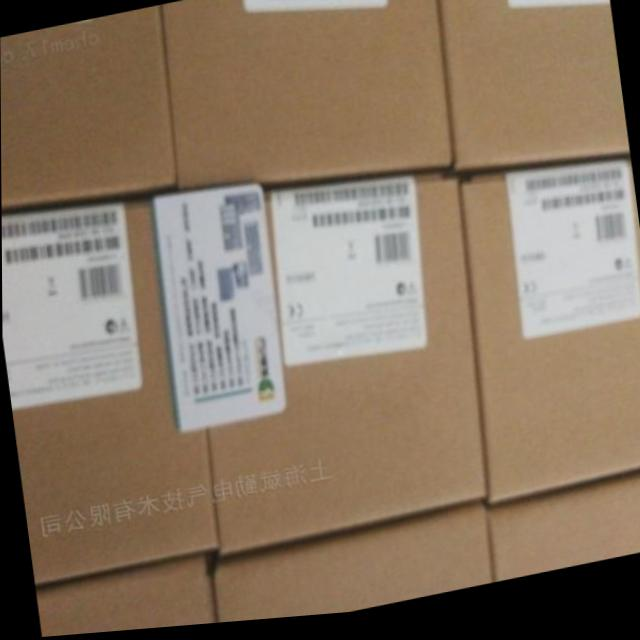box: (180, 180, 487, 563), (1, 197, 217, 587), (458, 167, 640, 517), (162, 0, 449, 196), (0, 9, 174, 211), (436, 0, 630, 179), (212, 509, 492, 626), (488, 485, 640, 589), (35, 557, 214, 638)
